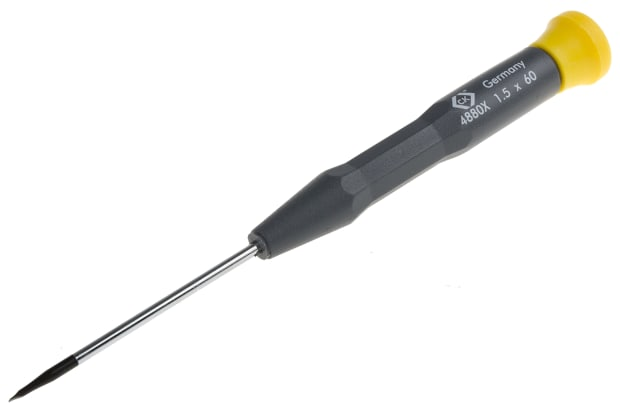screwdriver: (9, 11, 611, 402)
